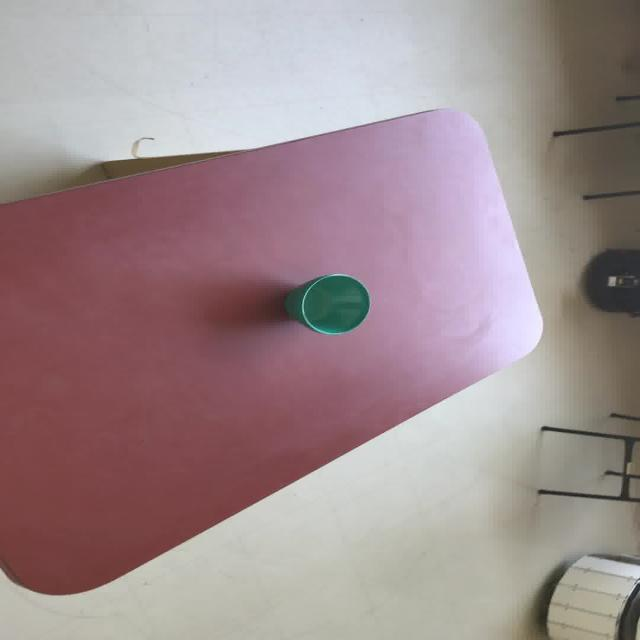bowl: (282, 272, 371, 335)
